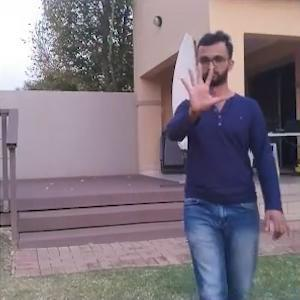follow_hand: (176, 57, 231, 118)
